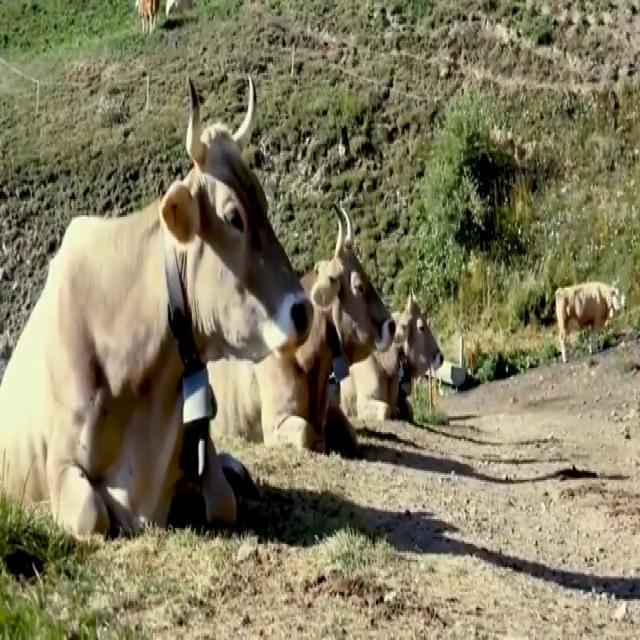cow: (0, 81, 442, 537), (556, 282, 622, 357)
